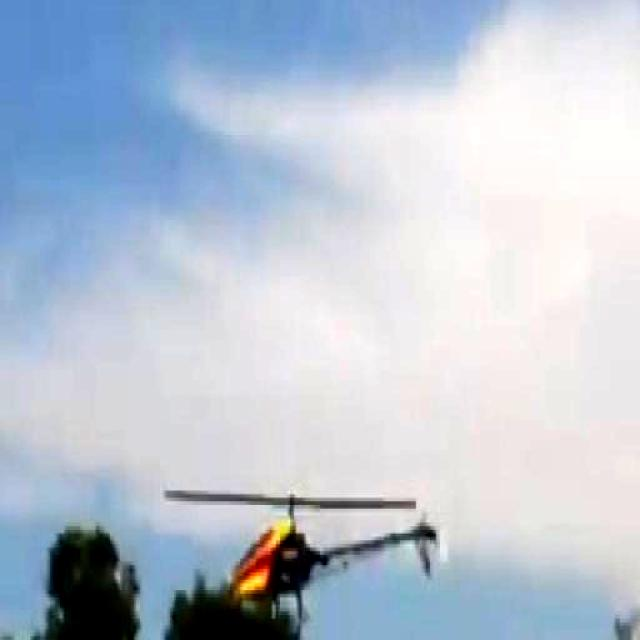drone: (154, 474, 448, 640)
